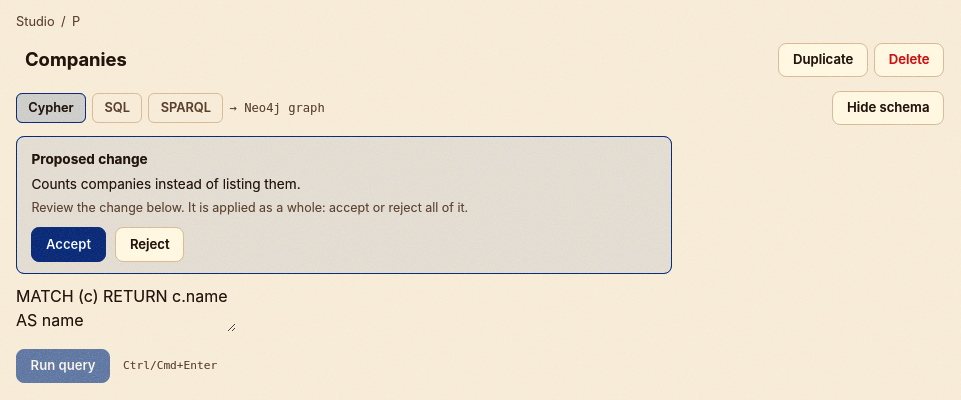
Test: StudioQueryView — assistant proposals › accept puts the text in the draft, saves it exactly once and releases the lock
Click the button with test id "query-proposal-accept" at [69, 245], box [31,227,106,262]
Wait 600 ms
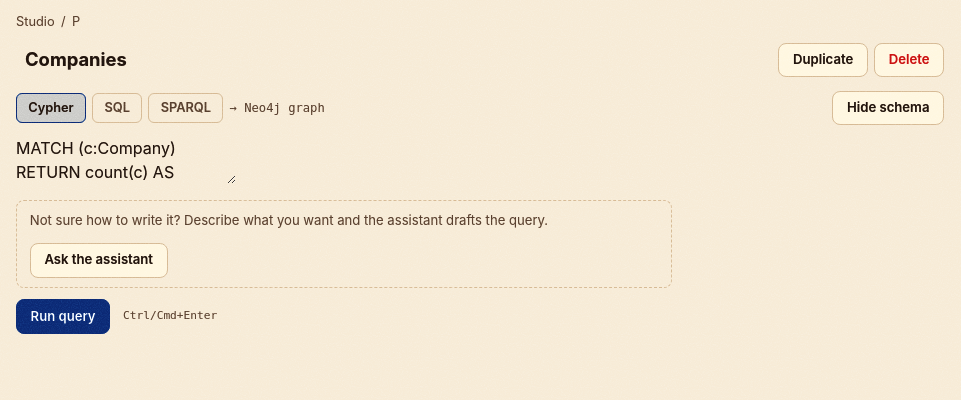
Check: the text box with test id "query-editor" holds "MATCH (c:Company) RETURN count(c) AS companies", box [16,136,236,184]
